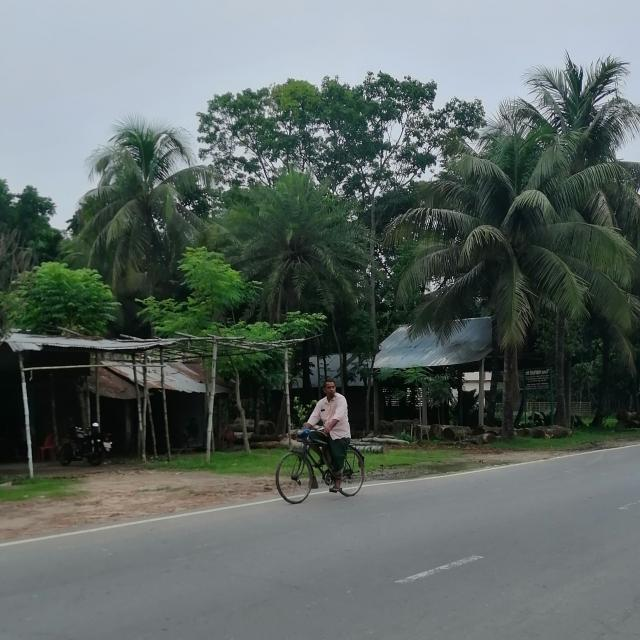Bicycle: (263, 414, 373, 515)
